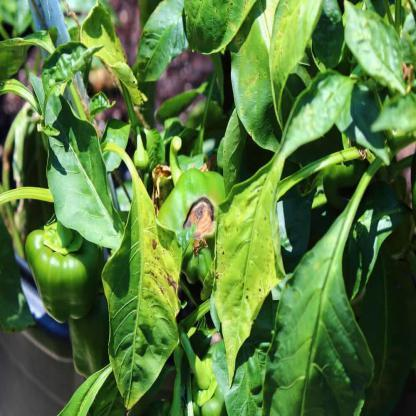Bell_pepper leaf spot: (42, 76, 126, 250)
